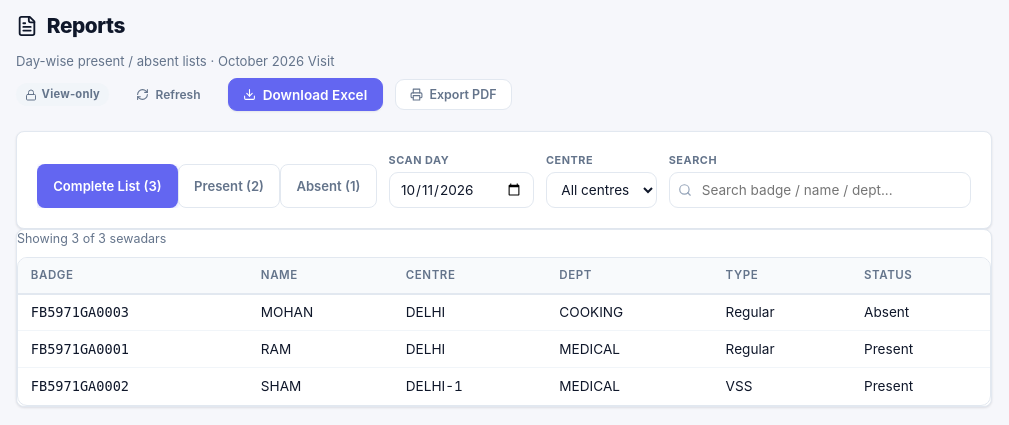
Test: ReportsPage — filters narrow every tab › centre filter narrows rows and tab counts
The width and height of the screenshot is (1009, 425).
Select "DELHI-1" in the dropdown named "Filter by centre" at (601, 190), box [546, 172, 657, 208]
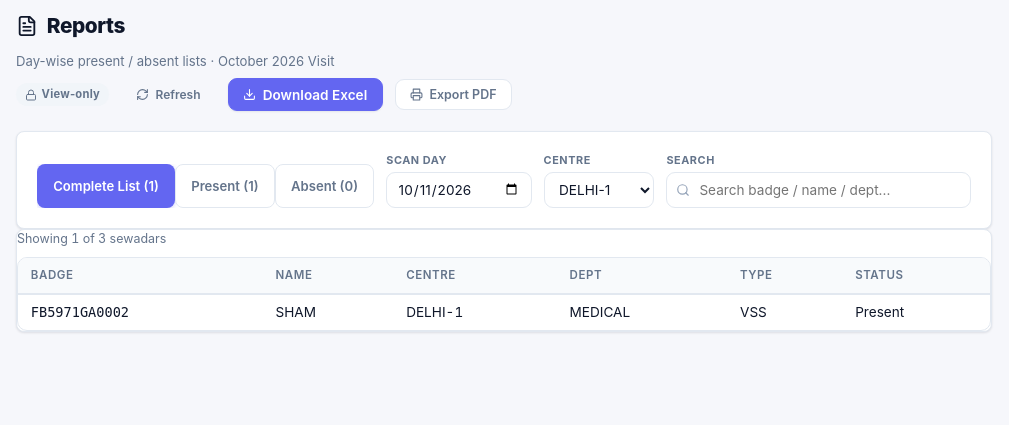
Check: the row "FB5971GA0002 SHAM DELHI-1 MEDICAL VSS Present" is shown, box [18, 294, 990, 330]
Check: the tab "Complete List (1)" is shown, box [37, 164, 175, 208]
Click the tab "Present (1)" at (225, 186), box [175, 164, 275, 208]
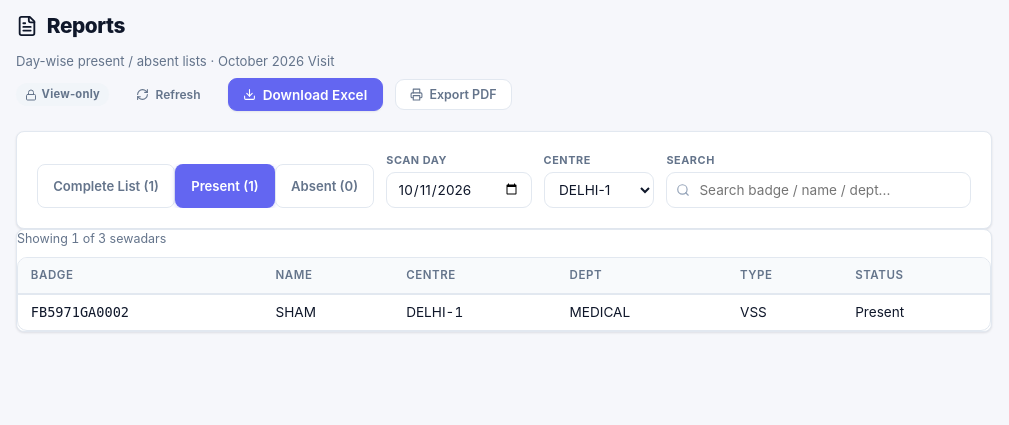
Click the tab "Absent (0)" at (324, 186), box [275, 164, 374, 208]
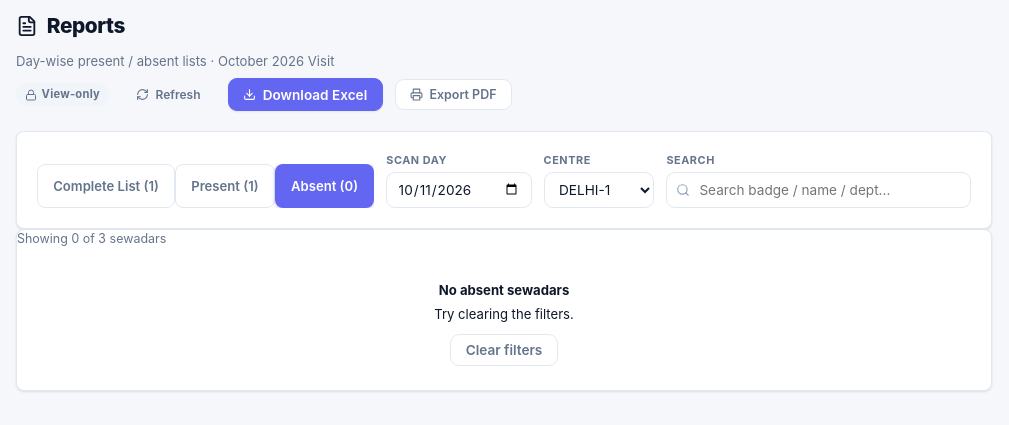
Check: the text "No absent sewadars" is shown, box [439, 282, 569, 298]
